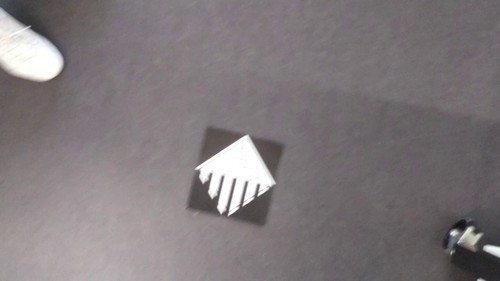misgoods: (195, 138, 282, 215)
